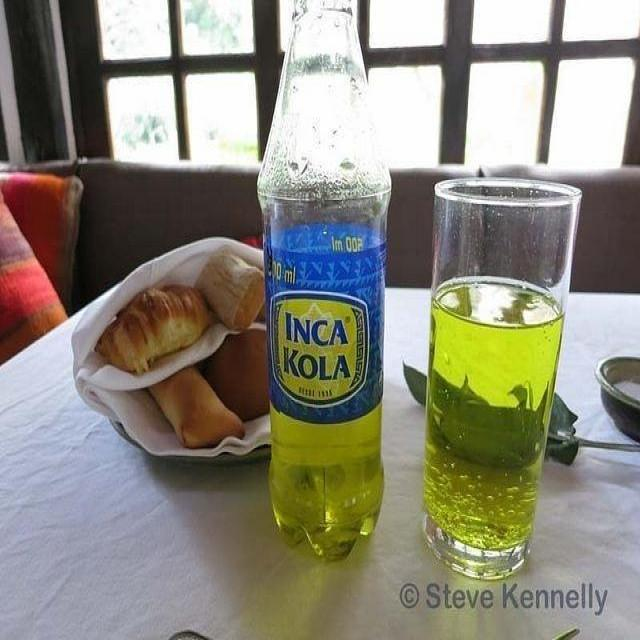bottle-plastic: (259, 1, 394, 567)
glass-normal: (422, 177, 581, 580)
